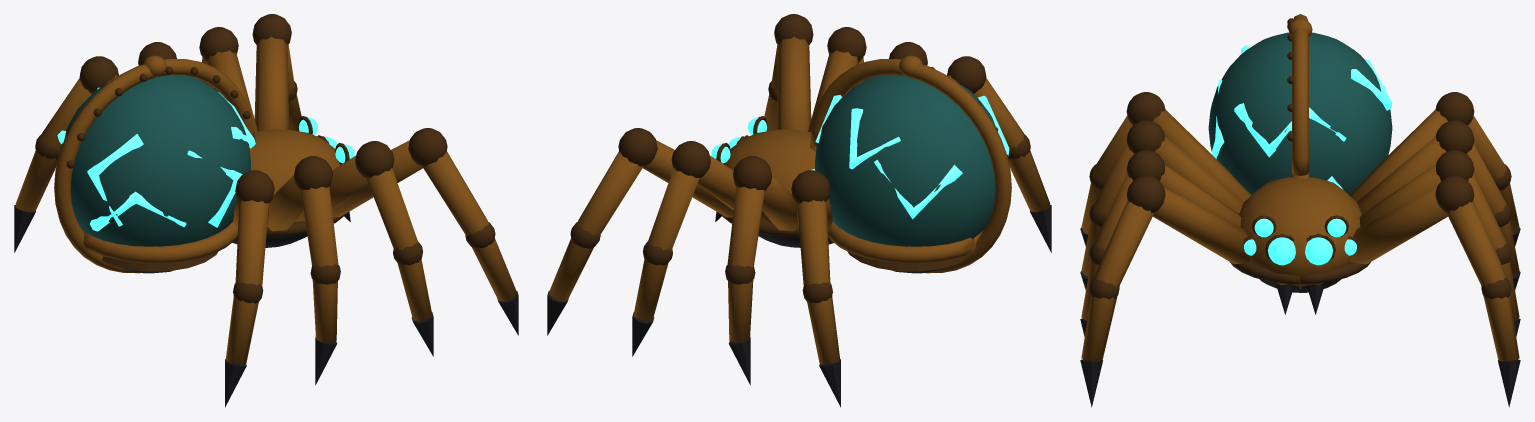
The model's file is spider.glb.
The picture shows the model from 3 angles, left to right: view 1: azimuth 30°, elevation 25°; view 2: azimuth 150°, elevation 25°; view 3: azimuth 270°, elevation 25°; orthographic projection.
Visible parts, largest first — view 1: Orb_Glass, Meridian, Leg_03b_Tibia, Leg_00a_Tibia, Leg_02a_Tibia, Leg_01b_Tibia, Carapace, Leg_00b_Femur, Orb_Collar, Leg_03a_Tibia, Leg_02a_Femur, Leg_00a_Femur (+24 smaller); view 2: Orb_Glass, Meridian, Leg_03a_Tibia, Leg_00b_Tibia, Leg_02b_Tibia, Leg_01a_Tibia, Carapace, Leg_00a_Femur, Orb_Collar, Leg_03b_Tibia, Leg_02b_Femur, Leg_00b_Femur (+23 smaller); view 3: Orb_Glass, Carapace, Leg_00a_Tibia, Leg_00b_Tibia, Leg_00a_Femur, Leg_00b_Femur, Meridian, Leg_03a_Femur, Leg_03b_Femur, Leg_02a_Femur, Leg_02b_Femur, Leg_01a_Femur (+24 smaller).
Part boxes in pixels (box(x1,y1,x2,y2)): Orb_Glass: box(60, 75, 250, 246); Meridian: box(54, 59, 255, 273); Leg_03b_Tibia: box(225, 200, 268, 364); Leg_00a_Tibia: box(422, 151, 516, 301); Leg_02a_Tibia: box(301, 186, 338, 342); Leg_01b_Tibia: box(366, 168, 432, 320); Carapace: box(250, 129, 340, 222); Leg_00b_Femur: box(254, 36, 289, 131); Orb_Collar: box(83, 222, 237, 263); Leg_03a_Tibia: box(15, 78, 91, 212); Leg_02a_Femur: box(267, 175, 303, 231); Leg_00a_Femur: box(332, 140, 422, 217); Orb_Glass: box(815, 75, 995, 246); Meridian: box(810, 59, 1011, 273); Leg_03a_Tibia: box(797, 200, 840, 364); Leg_00b_Tibia: box(549, 151, 643, 301); Leg_02b_Tibia: box(727, 186, 764, 342); Leg_01a_Tibia: box(633, 168, 699, 320); Carapace: box(725, 129, 815, 222); Leg_00a_Femur: box(776, 36, 811, 131); Orb_Collar: box(828, 222, 982, 263); Leg_03b_Tibia: box(974, 78, 1050, 212); Leg_02b_Femur: box(762, 175, 798, 231); Leg_00b_Femur: box(643, 140, 733, 217); Orb_Glass: box(1208, 32, 1392, 194); Carapace: box(1239, 177, 1361, 288); Leg_00a_Tibia: box(1081, 200, 1154, 361); Leg_00b_Tibia: box(1446, 200, 1519, 361); Leg_00a_Femur: box(1153, 187, 1250, 264); Leg_00b_Femur: box(1350, 187, 1447, 264); Meridian: box(1292, 14, 1308, 178); Leg_03a_Femur: box(1349, 109, 1447, 201); Leg_03b_Femur: box(1153, 109, 1251, 201); Leg_02a_Femur: box(1154, 136, 1243, 213); Leg_02b_Femur: box(1357, 136, 1446, 213); Leg_01a_Femur: box(1359, 164, 1440, 226).
Bounding box in the file's own units: 1.36 × 0.9595 × 1.46.
